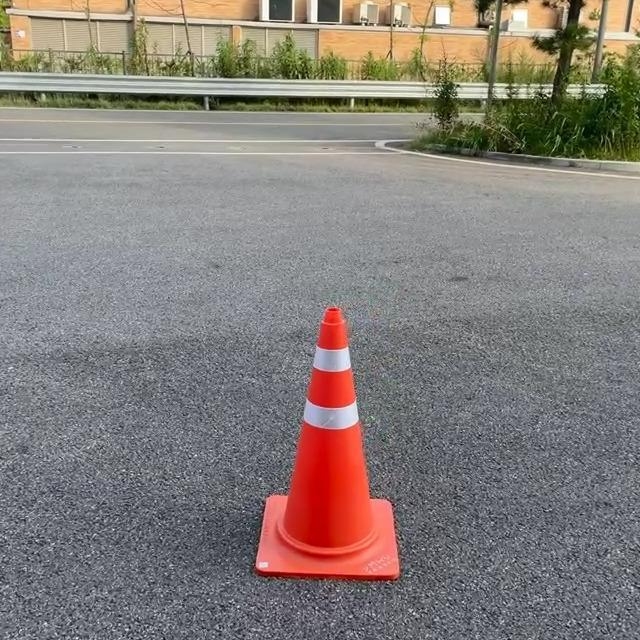fallen_object: (256, 270, 454, 546)
